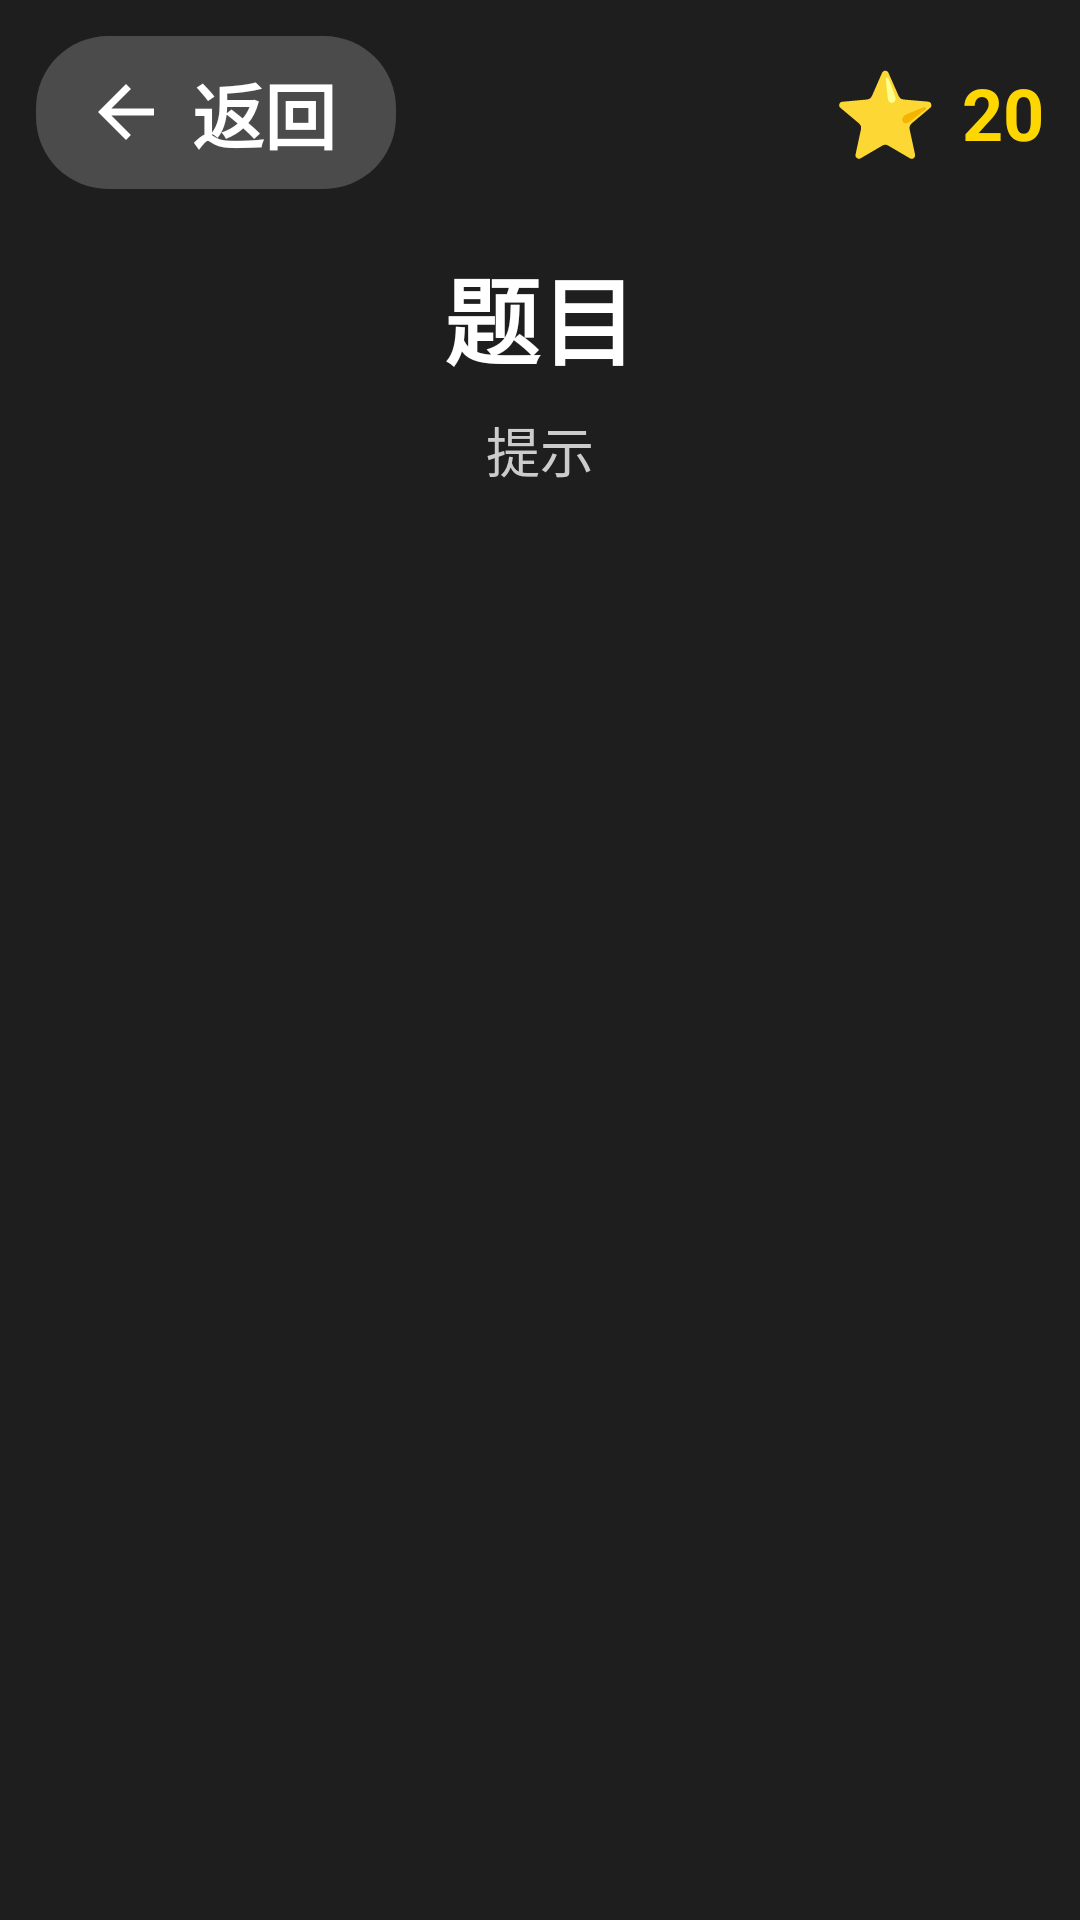

Where icons sit on this 1080 × 1920 app screen, as (x1, y1, x2, y2):
back: (98, 84, 154, 140)
